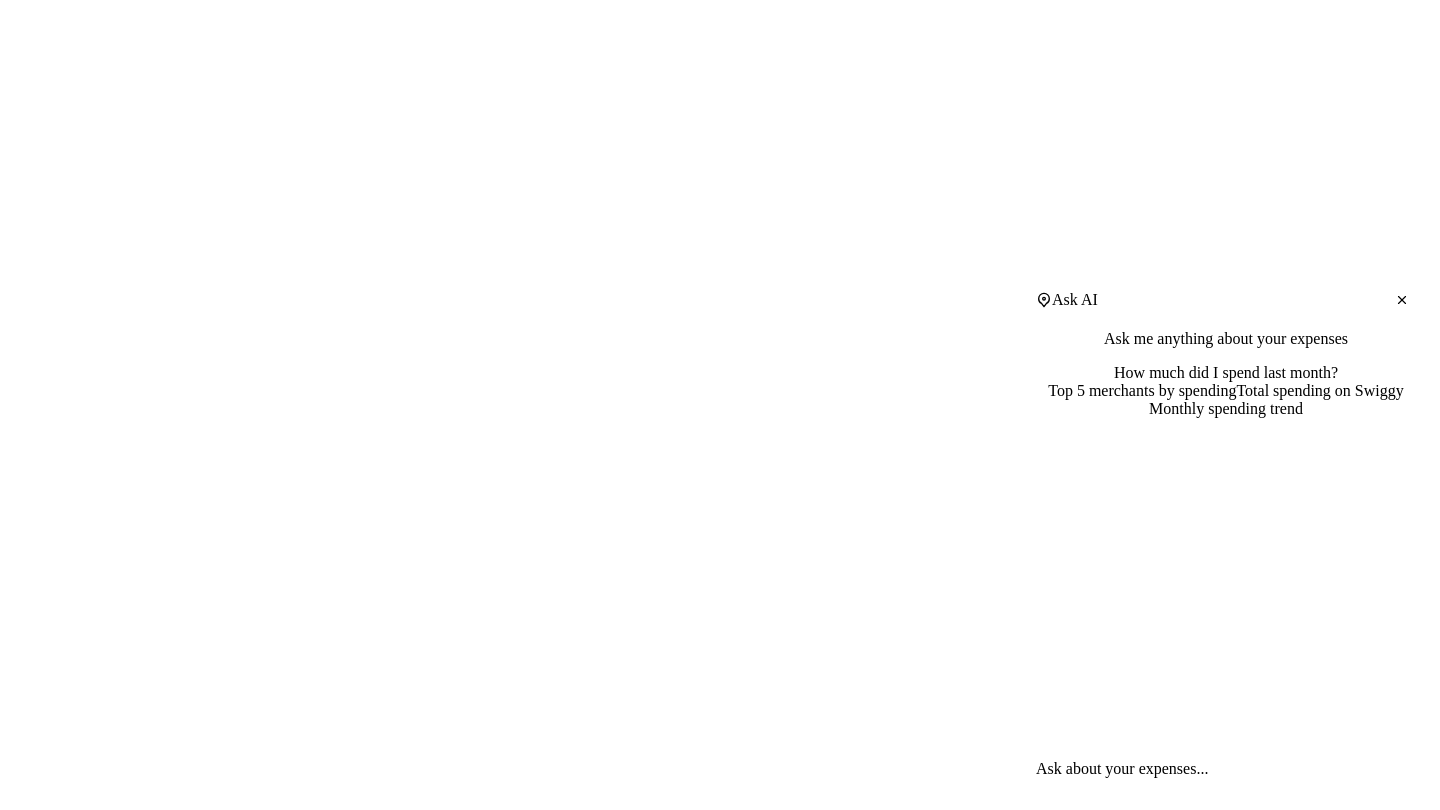
Test case: AskAI › should submit a question and display the answer
Step 1. Type "How much did I spend?" into the field with placeholder "Ask about your expenses..." → (1209, 769), box [1036,760,1382,778]
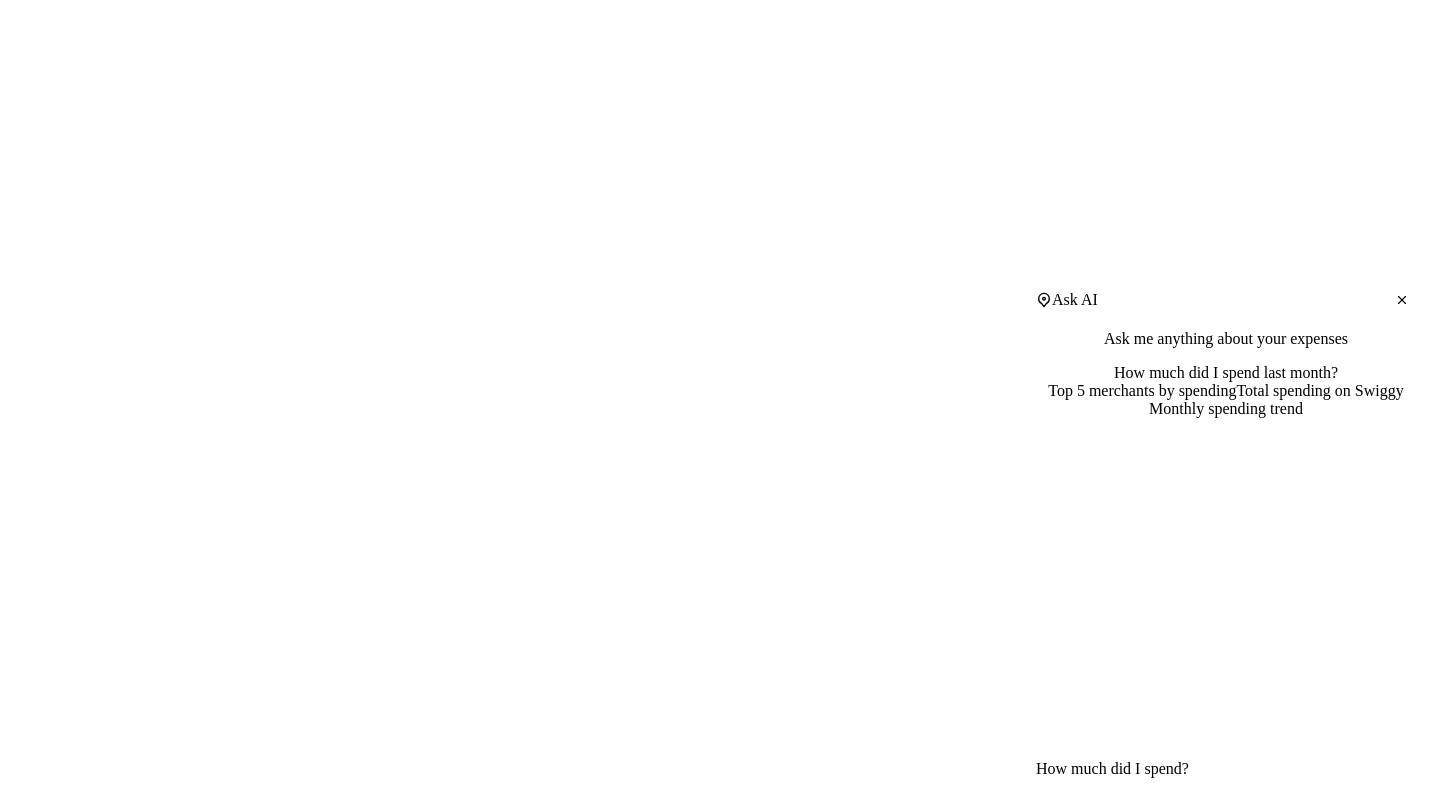
Step 2. Press Enter
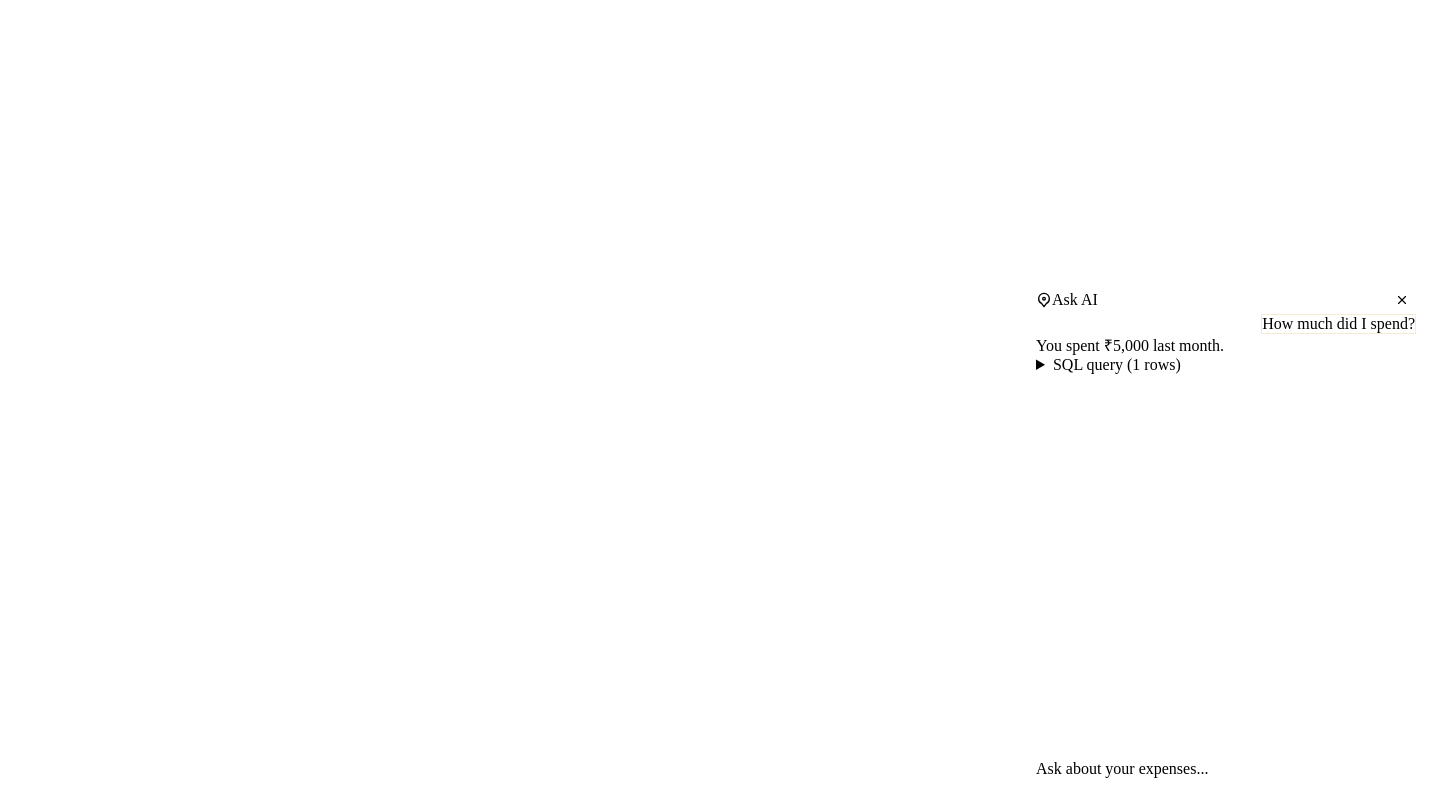
Check: the text "How much did I spend?" is shown, box [1261,314,1416,334]
Check: the text "You spent ₹5,000 last month." is shown, box [1036,334,1224,356]
